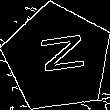N_W: (30, 35, 85, 81)
